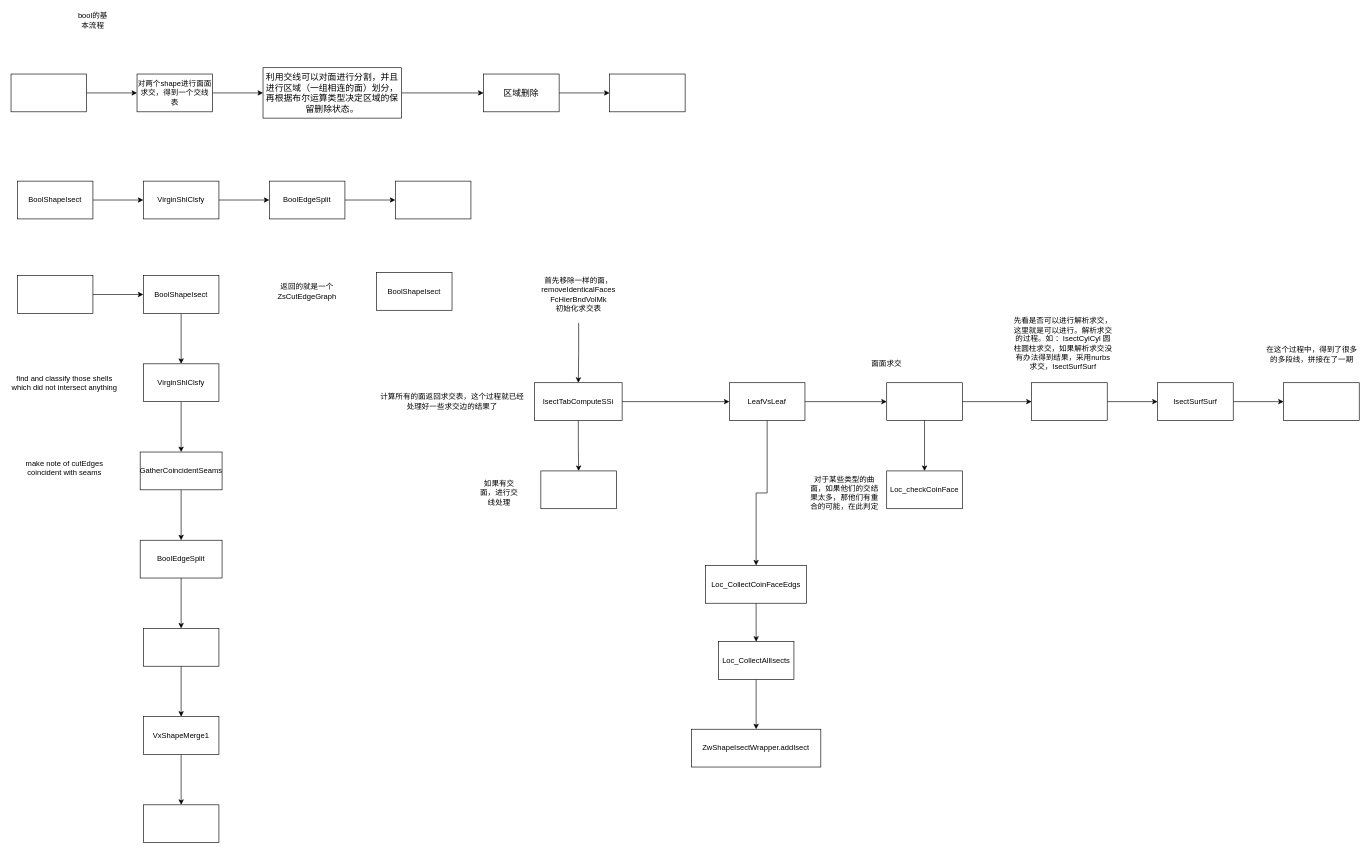
This 1370x854 diagram has some shape labels left out. The box of each missing label's shape, as (x1, y1, x2, y2) in pixels:
CreateRegion: (395, 180, 471, 219)
CreateRegions: (143, 628, 219, 666)
IsectTabComputeCCi: (540, 470, 616, 509)
SSiMarch: (1283, 382, 1359, 421)
SSIsectOp2: (1031, 382, 1107, 421)
TopTabBoolUtil: (17, 275, 93, 313)
TotabRegnMerg: (143, 804, 219, 843)
VxSrfSrfIsect: (886, 382, 962, 421)
前处理：将两个做bool的shell拷贝到一个shape中用map建立face xref的映射关系: (10, 73, 87, 112)
找到种子面，重构拓扑: (609, 73, 685, 112)
